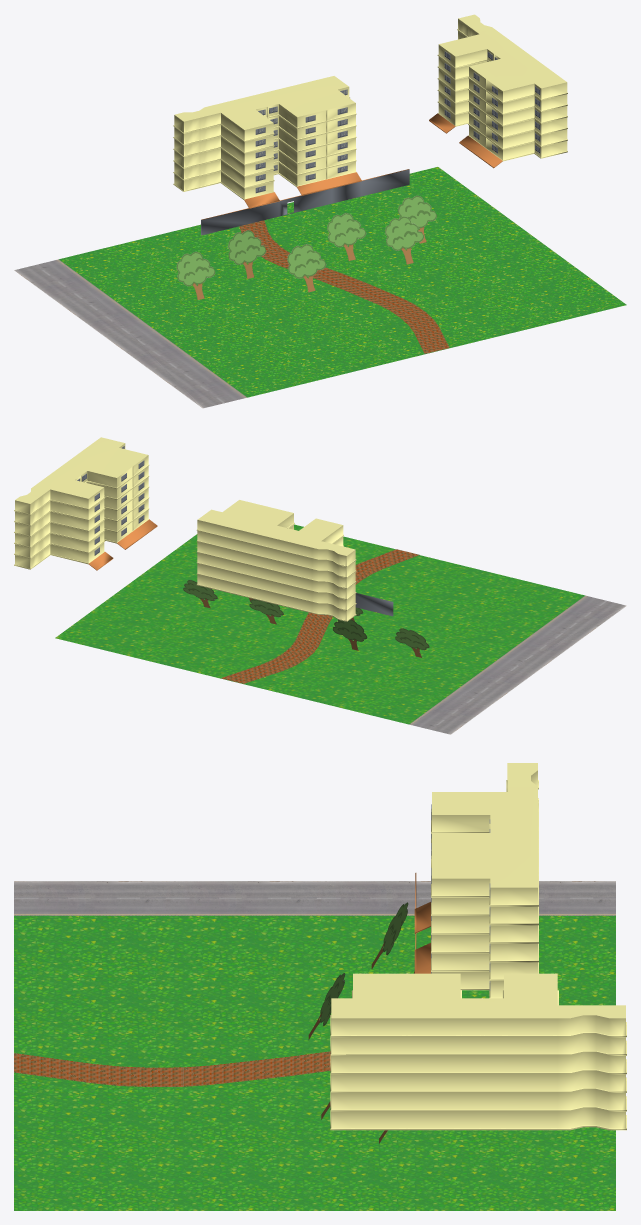
Rendered from MP_New_BackgroundAssets.fbx.
The picture shows the model from 3 angles, top to bottom: view 1: azimuth 30°, elevation 25°; view 2: azimuth 150°, elevation 25°; view 3: azimuth 270°, elevation 25°; orthographic projection. The views are drawn at different scales.
Visible parts, largest first — view 1: Grass_Ground, Background_Flats, Background_Flats.002, Plane, Pathway, Tree.004, Tree.005, Tree, Tree.002, Tree.003, Tree.001; view 2: Grass_Ground, Background_Flats, Background_Flats.002, Plane, Pathway, Tree.003, Tree.004, Tree.001, Tree; view 3: Grass_Ground, Background_Flats.002, Background_Flats, Plane, Pathway, Tree.004.
Part boxes in pixels (x1,y1,x2,y2): Grass_Ground: [59, 167, 626, 397]; Background_Flats: [173, 76, 409, 235]; Background_Flats.002: [429, 14, 567, 168]; Plane: [14, 259, 246, 408]; Pathway: [239, 220, 449, 353]; Tree.004: [176, 251, 215, 299]; Tree.005: [287, 244, 326, 292]; Tree: [327, 213, 366, 260]; Tree.002: [385, 216, 423, 264]; Tree.003: [228, 230, 266, 278]; Tree.001: [398, 195, 436, 243]; Grass_Ground: [55, 524, 584, 724]; Background_Flats: [196, 500, 393, 621]; Background_Flats.002: [14, 437, 157, 570]; Plane: [409, 595, 626, 734]; Pathway: [221, 549, 419, 683]; Tree.003: [333, 619, 366, 650]; Tree.004: [395, 628, 429, 657]; Tree.001: [183, 580, 217, 608]; Tree: [249, 599, 283, 624]; Grass_Ground: [14, 915, 615, 1210]; Background_Flats.002: [330, 973, 626, 1130]; Background_Flats: [414, 763, 538, 998]; Plane: [14, 881, 615, 915]; Pathway: [14, 1051, 330, 1087]; Tree.004: [371, 902, 408, 969].
Size of the model in its own units: 8941 by 2617 by 6414.
10 materials, 4 textured.
